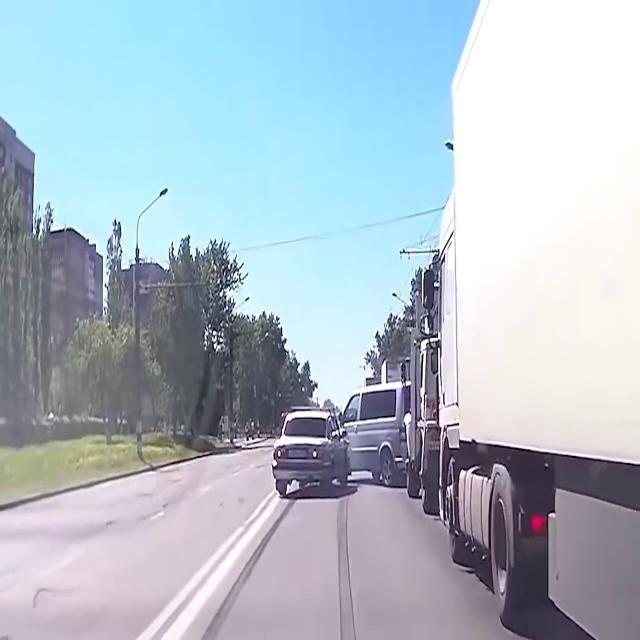accident: (271, 384, 407, 490)
